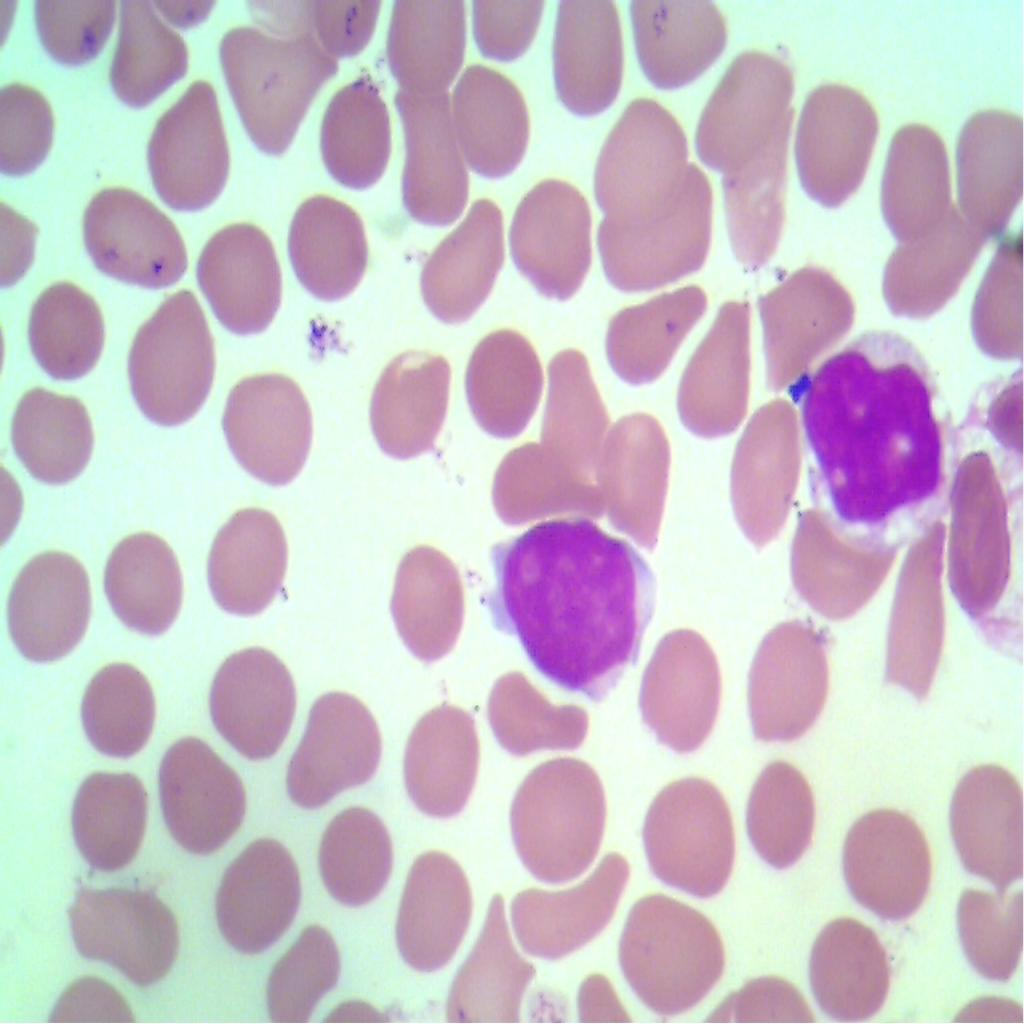Eritrosit: (114, 271, 212, 434), (615, 874, 724, 1018), (739, 610, 844, 748), (198, 627, 299, 770), (598, 272, 715, 395), (632, 765, 738, 900), (202, 488, 299, 634), (835, 785, 936, 924), (793, 64, 889, 210), (55, 879, 182, 989), (215, 368, 318, 503), (215, 24, 318, 159), (586, 79, 683, 221), (266, 171, 366, 307), (944, 448, 1018, 630), (78, 172, 194, 288), (873, 192, 986, 311), (378, 527, 470, 669), (504, 744, 606, 872), (595, 180, 719, 284), (135, 70, 233, 200), (411, 188, 506, 322), (588, 405, 678, 544), (289, 678, 386, 806), (639, 624, 729, 761), (879, 520, 948, 698), (394, 691, 483, 828), (150, 731, 252, 850), (210, 818, 298, 954), (790, 504, 888, 625), (695, 37, 795, 155), (680, 287, 758, 438), (800, 912, 906, 1023), (504, 174, 590, 308), (188, 219, 284, 338), (479, 658, 596, 754), (4, 540, 93, 666), (319, 795, 402, 930), (393, 79, 471, 222), (726, 401, 802, 542), (530, 335, 610, 468), (106, 522, 192, 645), (506, 868, 626, 955), (550, 0, 636, 121), (491, 432, 594, 531), (761, 261, 848, 378), (370, 338, 452, 461), (946, 98, 1024, 227), (11, 387, 101, 498), (66, 760, 150, 878), (26, 260, 104, 385), (456, 885, 526, 1023), (398, 840, 470, 972), (263, 909, 346, 1023), (955, 755, 1023, 891), (314, 82, 398, 192), (78, 652, 158, 767), (742, 751, 815, 877), (723, 142, 795, 269), (376, 0, 470, 97), (626, 0, 728, 89), (449, 65, 531, 175), (464, 324, 543, 434), (886, 117, 954, 241), (951, 867, 1023, 984), (0, 78, 68, 174), (114, 20, 190, 104)
Limfoblast: (486, 511, 658, 705), (809, 322, 959, 539)
